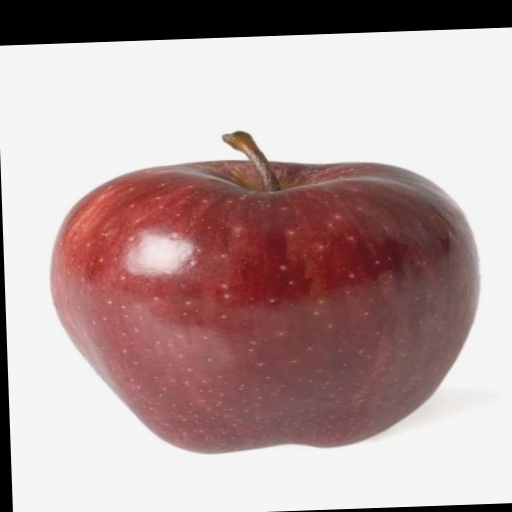fruit: (52, 133, 478, 452)
